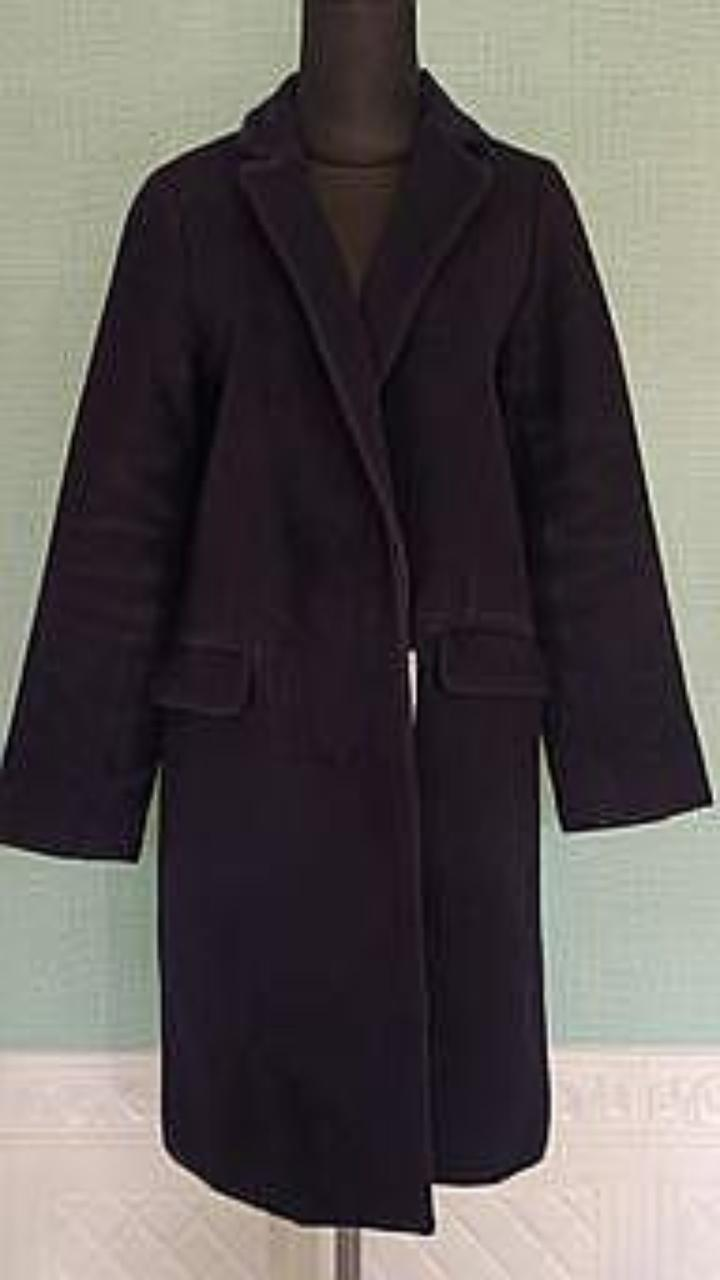Coat: (0, 68, 712, 1233)
